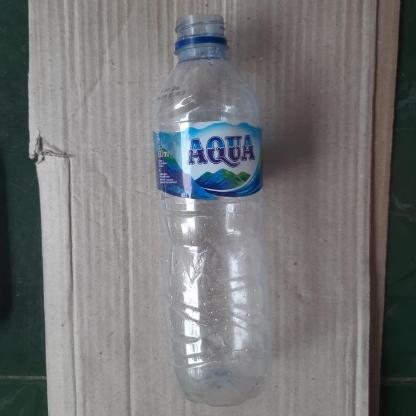Plastic Bottle: (154, 15, 274, 407)
